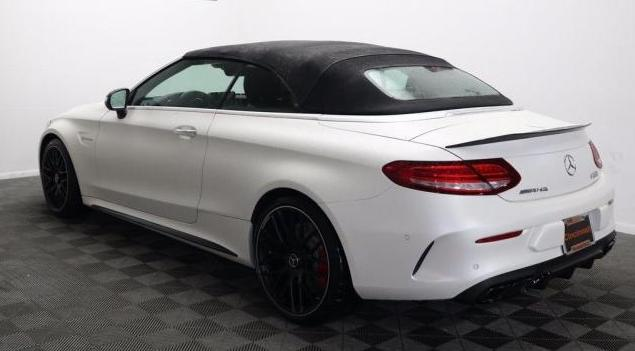C63AMG: (34, 34, 621, 330)
